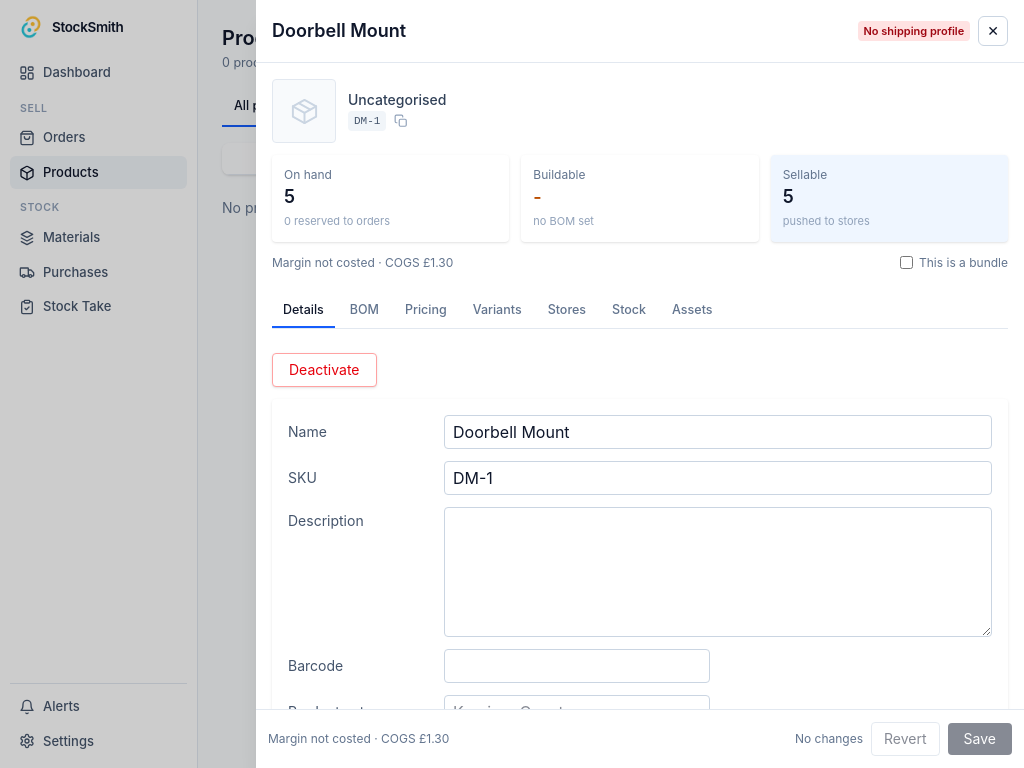
product detail page › warns before a tab switch would discard edits, and stays put on Keep editing
The image size is (1024, 768).
Click the button "BOM".
click(364, 312)  # box top-left (339, 296), bottom-right (390, 328)
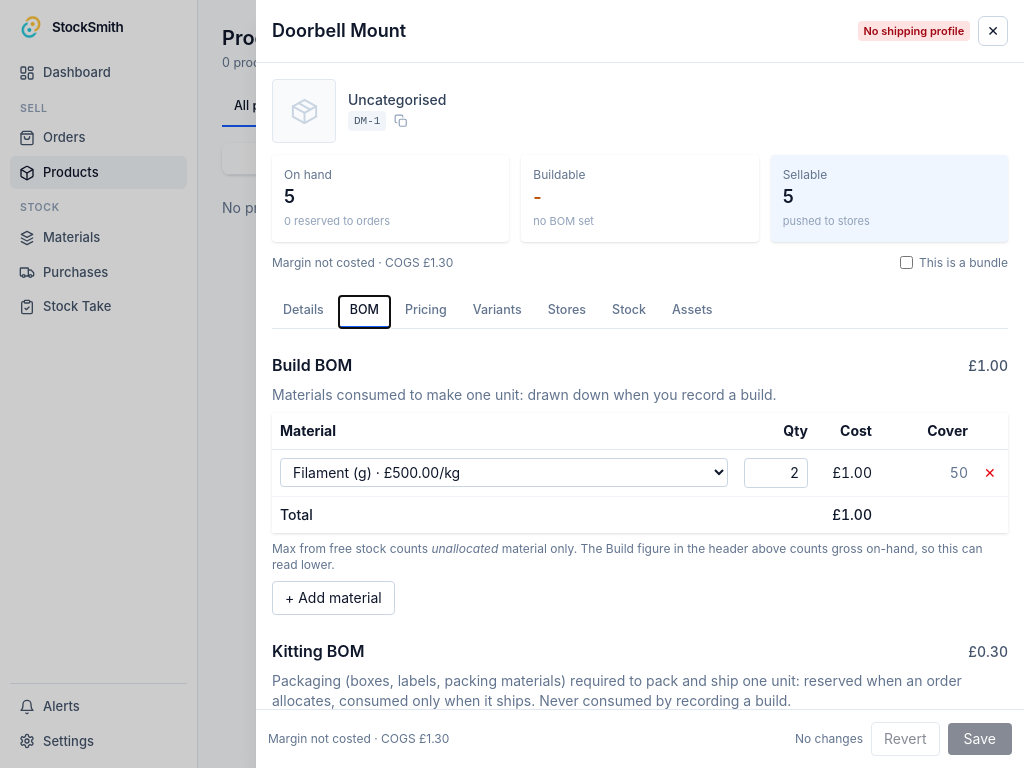
Replace the text in the field showing "2" with "9" at x=776, y=472, box top-left (744, 458), bottom-right (808, 488)
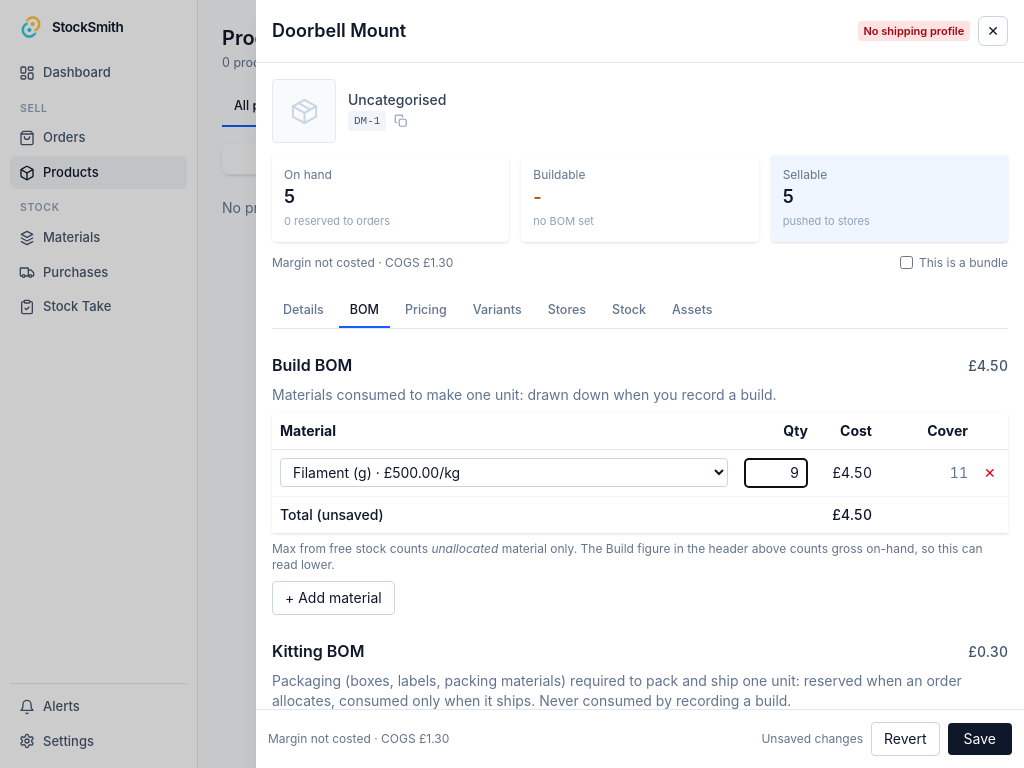
Click the button "Pricing".
click(426, 312)  # box top-left (394, 296), bottom-right (458, 328)
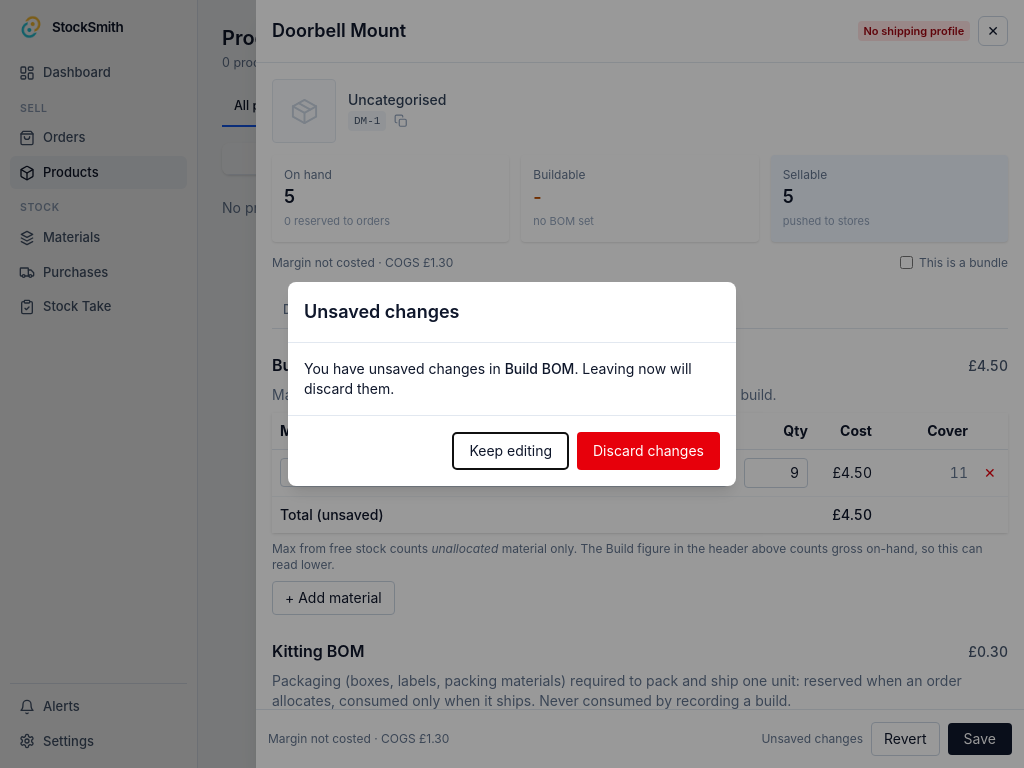
Check: the text "Build BOM" is shown, box top-left (505, 360), bottom-right (574, 377)
Click the button "Keep editing".
click(511, 451)  # box top-left (452, 432), bottom-right (569, 470)
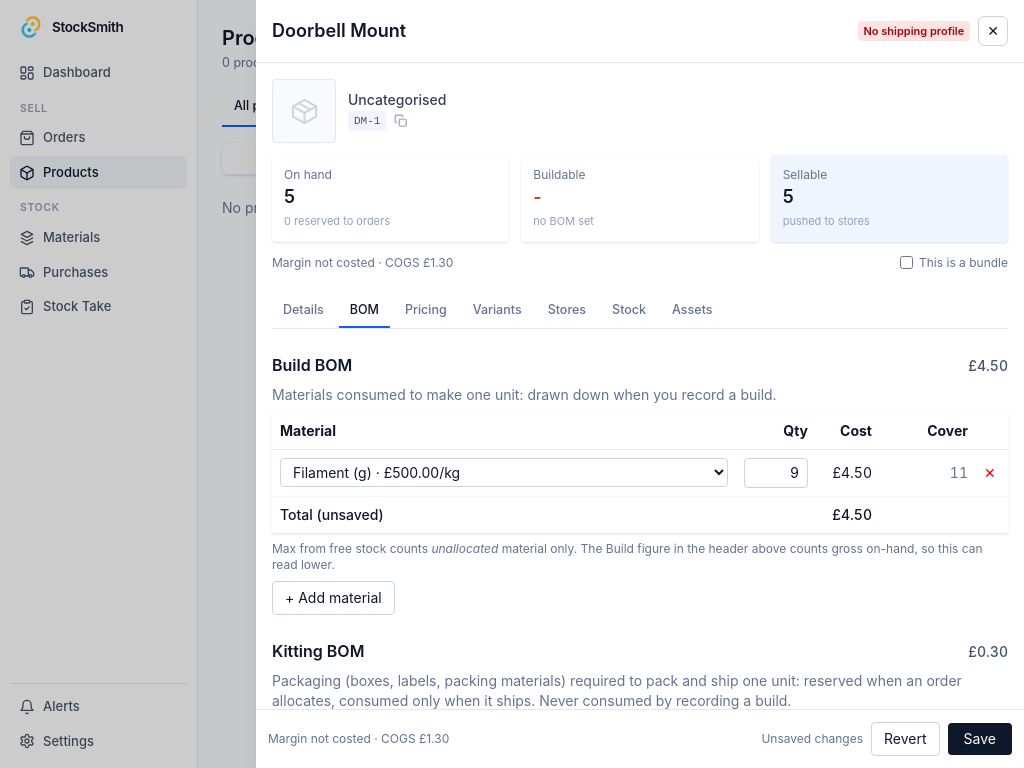
Check: the button "Keep editing" is gone
